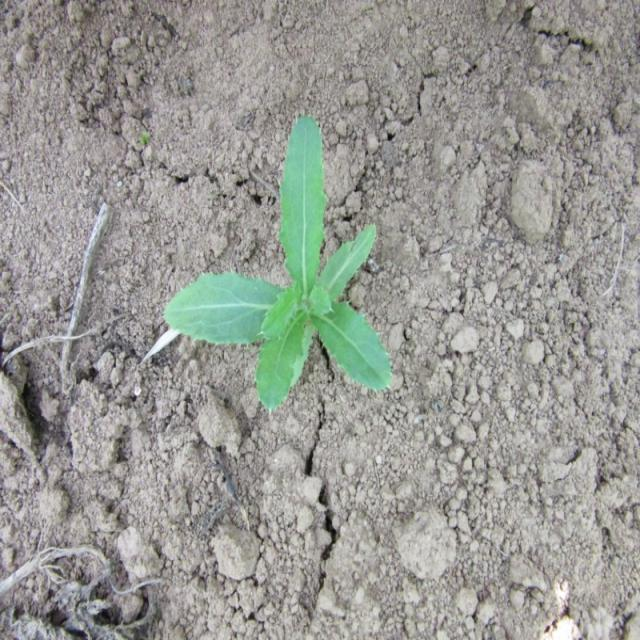field_thistle: (178, 114, 412, 417)
